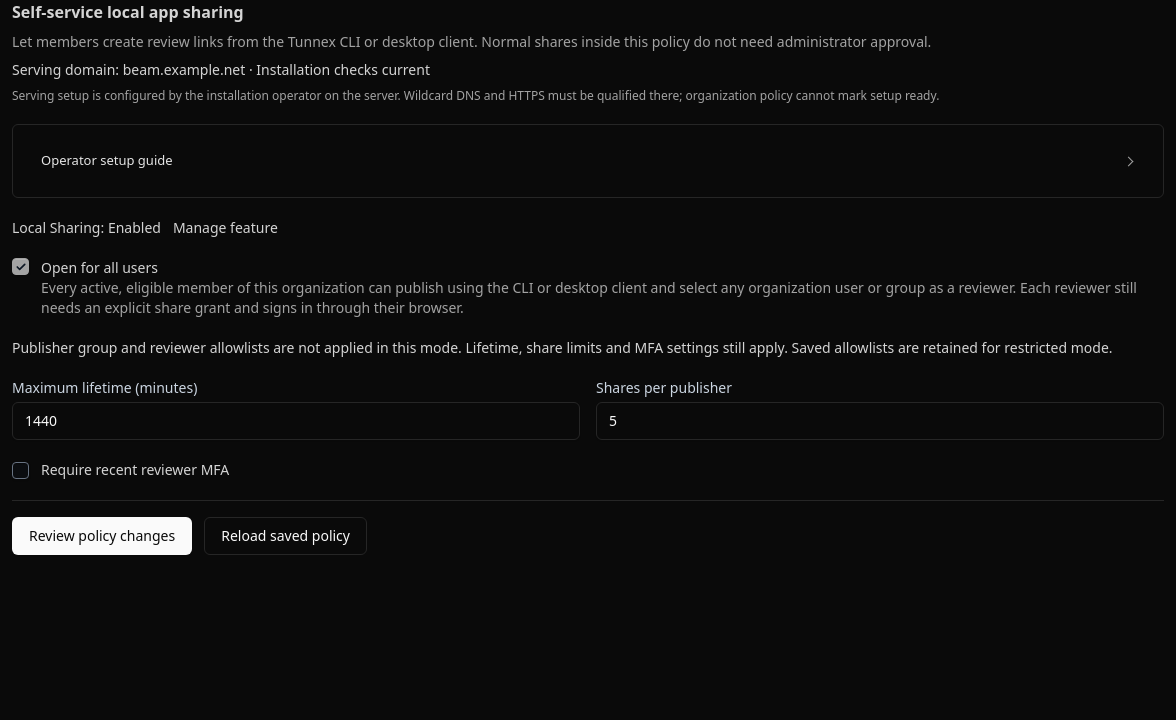
Beam open organization mode › restores restricted audience controls when the admin switches open mode off
The width and height of the screenshot is (1176, 720).
Click the checkbox labelled "Open for all users" at coordinates (20, 266), box [12,258,29,275]
(page scrolled)
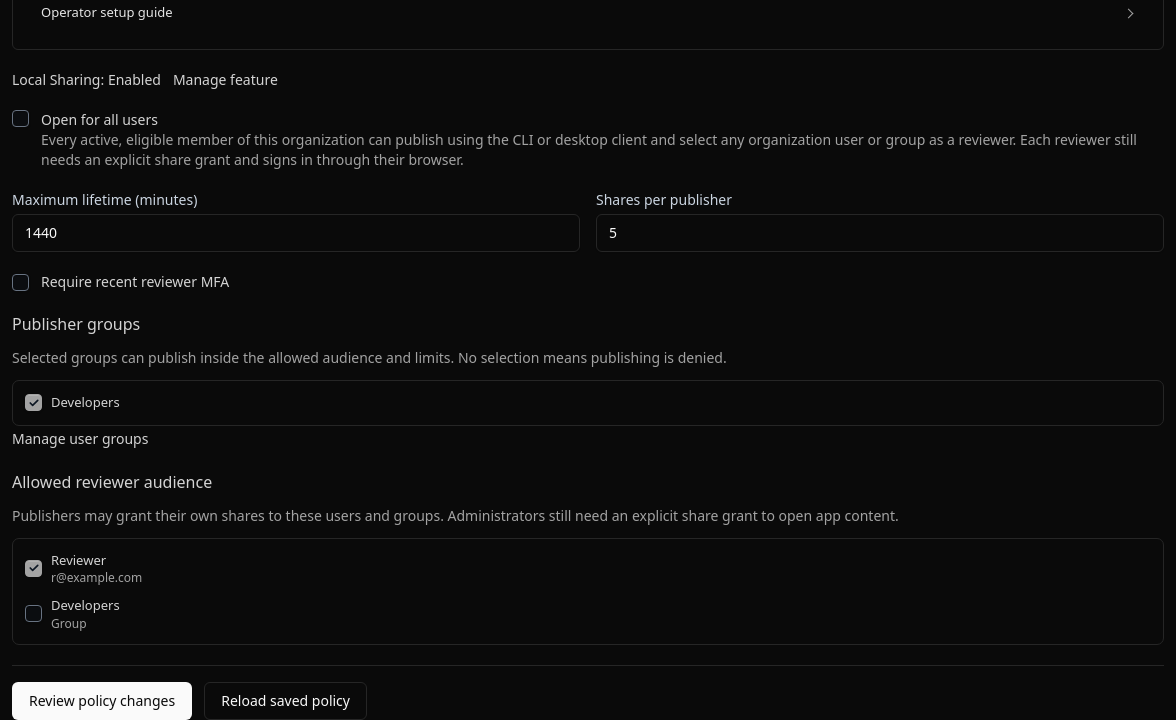
Check: the checkbox labelled "Developers" is checked, box [25,394,42,411]
Check: the checkbox labelled "Reviewer r@example.com" is checked, box [25,560,42,577]
